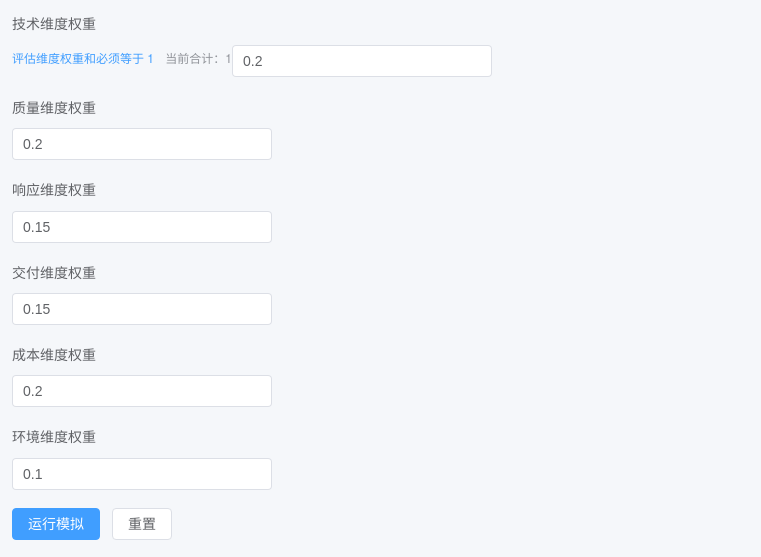
Test case: ParamPanel 语义化标量组约束（V11） › 权重和 ≠ 1：即时红字提示且不可提交
Replace the text in the field next to "当前合计：1" with "0.3". click: [362, 61]
box: [243,46,481,76]
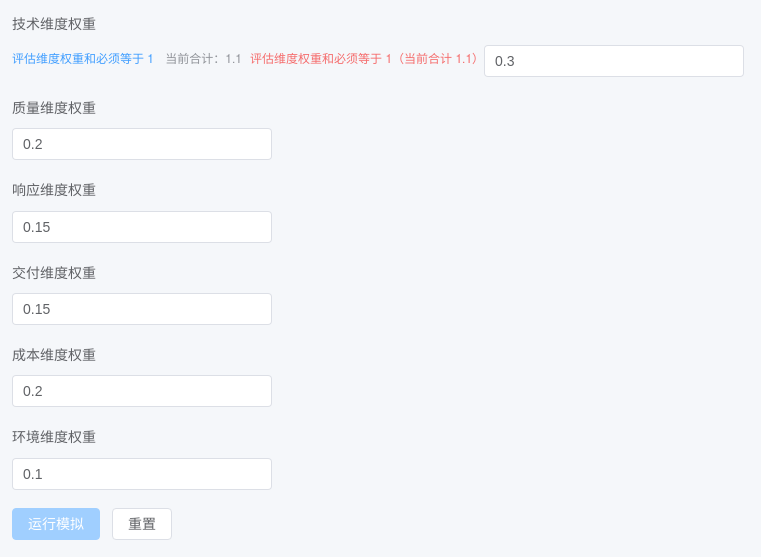
Expected: the text with test id "param-group-error-weight_sum" shows "评估维度权重和必须等于 1", [250,49,484,66]
Expected: the text with test id "param-group-error-weight_sum" shows "当前合计 1.1", [250,49,484,66]
Expected: the button with test id "run-submit" is disabled, [12,508,100,540]
